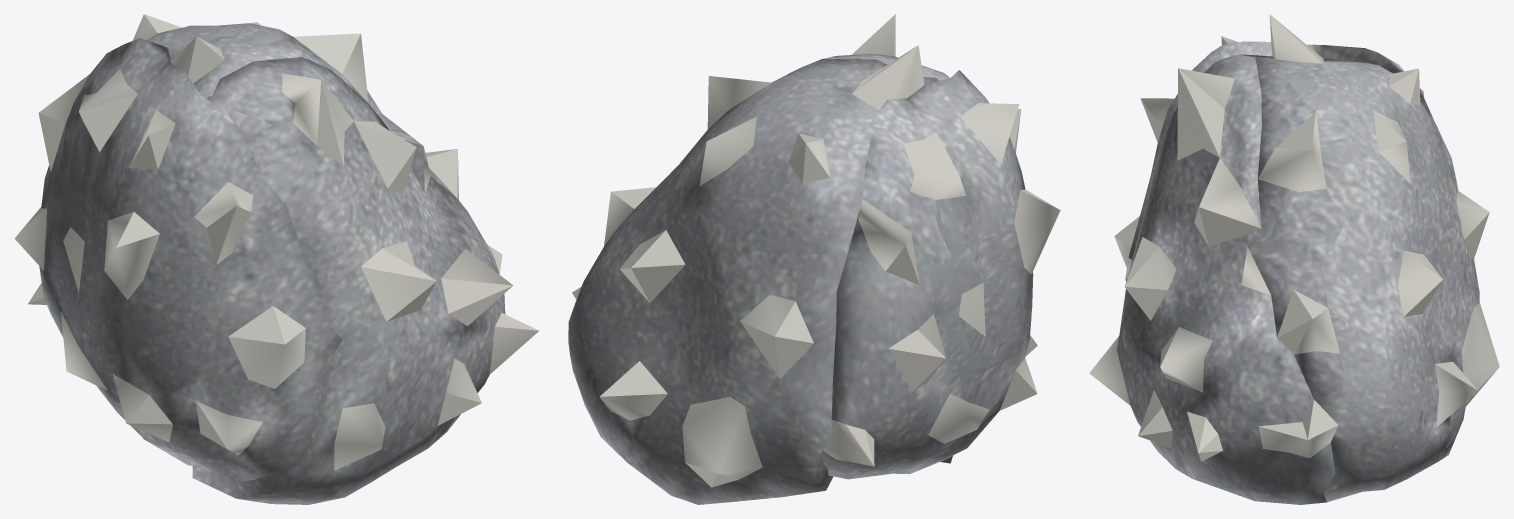
File: TitaniumOre.glb
3 views of the same model, side by side, from view 1: azimuth 30°, elevation 25°; view 2: azimuth 150°, elevation 25°; view 3: azimuth 270°, elevation 25° (orthographic). The views are drawn at different scales.
Parts seen in each view (by area): view 1: Rock 1.002, Rock 3.002, Rock 2.002; view 2: Rock 2.002, Rock 1.002, Rock 3.002; view 3: Rock 2.002, Rock 3.002, Rock 1.002.
Boxes of the visible parts, <box> form: Rock 1.002: <box>14,38,341,482</box>; Rock 3.002: <box>192,57,539,504</box>; Rock 2.002: <box>132,14,458,199</box>; Rock 2.002: <box>568,45,938,504</box>; Rock 1.002: <box>821,70,1060,479</box>; Rock 3.002: <box>572,14,952,463</box>; Rock 2.002: <box>1241,14,1499,502</box>; Rock 3.002: <box>1089,54,1338,504</box>; Rock 1.002: <box>1114,36,1458,281</box>.
Size of the model in its own units: 1.17 by 1.13 by 1.05.
2 materials, 1 textured.
